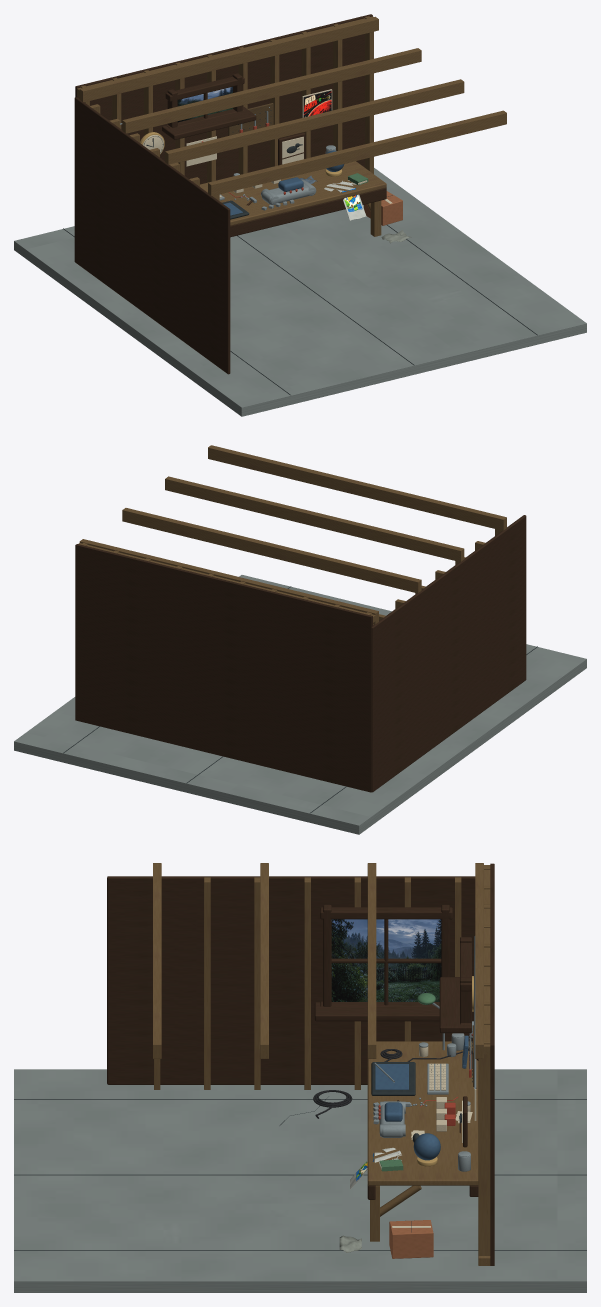
Rendered from workshop.glb.
3 views of the same model, one above another, from view 1: azimuth 30°, elevation 25°; view 2: azimuth 150°, elevation 25°; view 3: azimuth 270°, elevation 25° (orthographic). The views are drawn at different scales.
Parts seen in each view (by area): view 1: Bare poured concrete slab, Unfinished side sheathing, Garage raw rear sheathing, Open garage ceiling joist.002, Open garage ceiling joist.001, Open garage ceiling joist.003, Open garage ceiling joist, Wall-mounted workbench top, Workbench front apron, Deep sill, Exposed garage wall stud.009, Exposed garage wall stud.008 (+7 smaller); view 2: Garage raw rear sheathing, Unfinished side sheathing, Bare poured concrete slab, Open garage ceiling joist.001, Open garage ceiling joist.002, Open garage ceiling joist, Open garage ceiling joist.003, Garage framing plate.001; view 3: Bare poured concrete slab, Unfinished side sheathing, Wall-mounted workbench top, Garden beyond window.001, Exposed garage wall stud.009, Garage raw rear sheathing, Open garage ceiling joist.002, Deep sill.001, Open garage ceiling joist, Open garage ceiling joist.001, Open garage ceiling joist.003, Garage offcuts box (+15 smaller).
Boxes of the visible parts, x1,y1,x2,y2 form: Bare poured concrete slab: (14, 168, 586, 416); Unfinished side sheathing: (74, 97, 230, 374); Garage raw rear sheathing: (75, 14, 372, 184); Open garage ceiling joist.002: (122, 48, 421, 133); Open garage ceiling joist.001: (165, 79, 464, 164); Open garage ceiling joist.003: (79, 16, 378, 102); Open garage ceiling joist: (208, 110, 506, 195); Wall-mounted workbench top: (200, 156, 386, 225); Workbench front apron: (230, 188, 386, 237); Deep sill: (162, 106, 256, 139); Exposed garage wall stud.009: (365, 16, 373, 173); Exposed garage wall stud.008: (333, 24, 342, 150); Garage raw rear sheathing: (75, 544, 372, 792); Unfinished side sheathing: (371, 515, 526, 792); Bare poured concrete slab: (14, 575, 586, 834); Open garage ceiling joist.001: (165, 476, 464, 561); Open garage ceiling joist.002: (122, 508, 421, 592); Open garage ceiling joist: (208, 445, 506, 530); Open garage ceiling joist.003: (79, 539, 378, 624); Garage framing plate.001: (78, 543, 377, 622); Bare poured concrete slab: (14, 1069, 586, 1292); Unfinished side sheathing: (107, 876, 475, 1084); Wall-mounted workbench top: (367, 1041, 478, 1185); Garden beyond window.001: (331, 919, 441, 1001); Exposed garage wall stud.009: (478, 1040, 490, 1255); Garage raw rear sheathing: (490, 863, 494, 1265); Open garage ceiling joist.002: (367, 863, 376, 1058); Deep sill.001: (314, 1002, 439, 1021); Open garage ceiling joist: (153, 863, 161, 1058); Open garage ceiling joist.001: (260, 863, 268, 1058); Open garage ceiling joist.003: (475, 863, 483, 1058); Garage offcuts box: (389, 1220, 433, 1258).
Size of the model in its own units: 7 by 3.59 by 8.
Materials: 25 (24 with a texture image).
